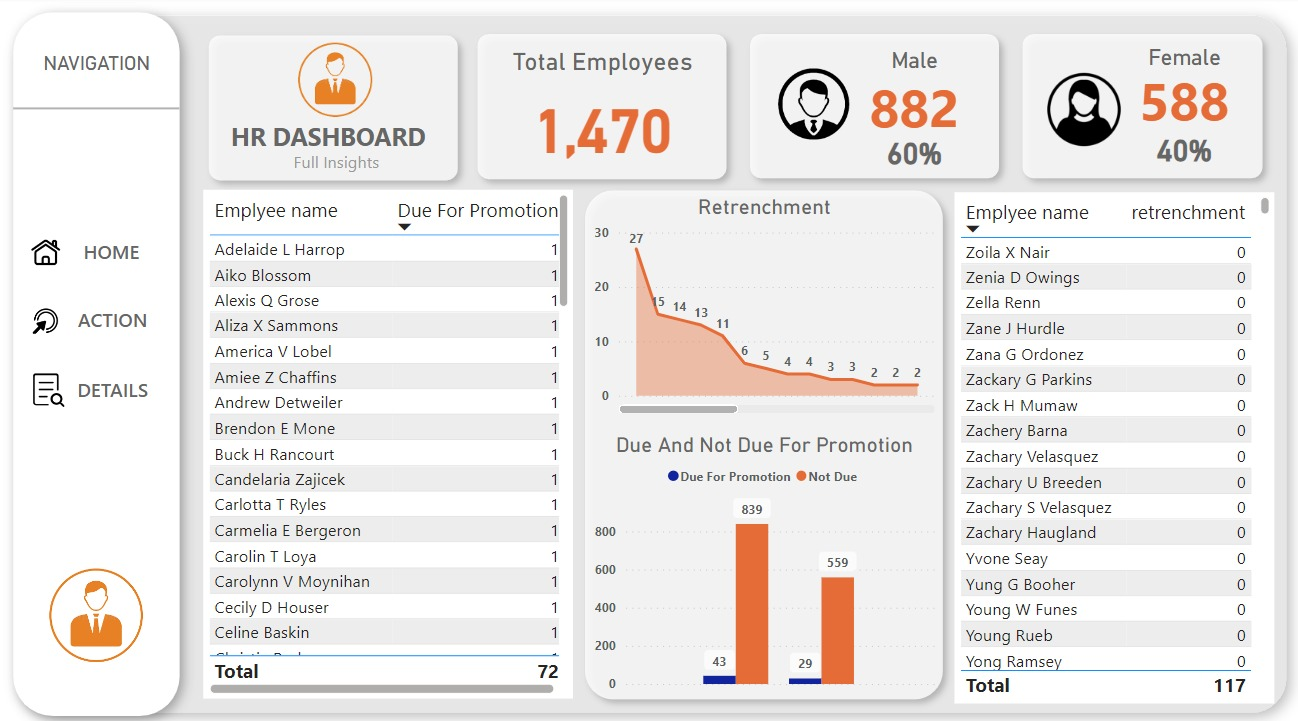

The page's visual inventory and layout, read from the dashboard file:
{"tool":"powerbi","page":{"name":"Action","canvas":[1280,720],"ordinal":1},"visuals":[{"type":"shape","box":[0,0,1279.9,720],"z":0},{"type":"shape","box":[0,0,194.4,720],"z":1000},{"type":"shape","box":[195.6,26.9,266.5,165],"z":2000},{"type":"shape","box":[458.4,25.7,266.5,165],"z":3000},{"type":"shape","box":[724.9,25.7,266.5,163.8],"z":4000},{"type":"textbox","box":[223.7,116.1,213.9,46.5],"z":5000},{"type":"textbox","box":[261.6,145.5,140.6,34.2],"z":6000},{"type":"image","box":[260.4,33,140.6,97.8],"z":7000},{"type":"shape","box":[991.4,25.7,257.9,163.8],"z":8000},{"type":"card","title":"Total Employees","fields":{"Values":["All Measures.Total emp"]},"box":[476.7,50.1,231,121],"z":9000},{"type":"card","title":"Male","fields":{"Values":["All Measures.Male"]},"box":[839.8,50.1,114.9,89.2],"z":10000},{"type":"card","title":"Male","fields":{"Values":["All Measures.% Male"]},"box":[845.9,130.8,102.7,42.8],"z":11000},{"type":"card","title":"Female","fields":{"Values":["All Measures.Female"]},"box":[1103.8,47.7,114.9,80.7],"z":12000},{"type":"card","title":"Male","fields":{"Values":["All Measures.% Female"]},"box":[1109.9,128.4,102.7,42.8],"z":13000},{"type":"image","box":[1004.8,55,116.1,111.2],"z":14000},{"type":"image","box":[756.7,66,83.1,79.5],"z":15000},{"type":"tableEx","fields":{"Values":["HR employee data.Emplyee name","All Measures.Due For Promotion"]},"box":[201.7,189.5,361.8,497.5],"z":16000},{"type":"tableEx","fields":{"Values":["HR employee data.Emplyee name","All Measures.retrenchment"]},"box":[936.4,191.9,312.9,500],"z":17000},{"type":"shape","box":[563.5,178.5,372.8,520.7],"z":18000},{"type":"areaChart","title":"Retrenchment ","fields":{"Category":["HR Analytics Data.Service Years"],"Y":["All Measures.retrenchment"]},"box":[579.4,194.4,342.3,218.8],"z":19000},{"type":"lineClusteredColumnComboChart","title":"Due And Not Due For Promotion ","fields":{"Category":["HR Analytics Data.Gender"],"Y":["All Measures.Due For Promotion","All Measures.Not Due"]},"box":[579.4,426.6,342.3,260.4],"z":20000},{"type":"actionButton","box":[62.3,292.2,101.5,46.5],"z":23000},{"type":"actionButton","box":[61.1,223.7,101.5,52.6],"z":24000},{"type":"actionButton","box":[62.3,360.6,101.5,46.5],"z":25000},{"type":"image","box":[29.3,545.2,135.7,121],"z":25001},{"type":"textbox","box":[40.3,50.1,124.7,35.4],"z":25002},{"type":"shape","box":[15.9,103.9,162.6,12.2],"z":25003},{"type":"image","box":[29.3,300.7,35.4,34.2],"z":25004},{"type":"image","box":[24.4,229.8,46.5,41.6],"z":25005},{"type":"image","box":[30.6,364.3,40.3,42.8],"z":25006}]}

Visuals, with their boxes on the page's 1280x720 design canvas (x1, y1, x2, y2). These are canvas units, not pixel positions in the 1298x721 screenshot, which may show the page scaled, cropped or inside an application window:
shape: <box>0,0,1280,720</box>
shape: <box>0,0,194,720</box>
shape: <box>196,27,462,192</box>
shape: <box>458,26,725,191</box>
shape: <box>725,26,991,190</box>
textbox: <box>224,116,438,163</box>
textbox: <box>262,146,402,180</box>
image: <box>260,33,401,131</box>
shape: <box>991,26,1249,190</box>
"Total Employees" card: <box>477,50,708,171</box>
"Male" card: <box>840,50,955,139</box>
"Male" card: <box>846,131,949,174</box>
"Female" card: <box>1104,48,1219,128</box>
"Male" card: <box>1110,128,1213,171</box>
image: <box>1005,55,1121,166</box>
image: <box>757,66,840,146</box>
tableEx - HR employee data.Emplyee name x All Measures.Due For Promotion: <box>202,190,564,687</box>
tableEx - HR employee data.Emplyee name x All Measures.retrenchment: <box>936,192,1249,692</box>
shape: <box>564,178,936,699</box>
"Retrenchment " areaChart: <box>579,194,922,413</box>
"Due And Not Due For Promotion " lineClusteredColumnComboChart: <box>579,427,922,687</box>
actionButton: <box>62,292,164,339</box>
actionButton: <box>61,224,163,276</box>
actionButton: <box>62,361,164,407</box>
image: <box>29,545,165,666</box>
textbox: <box>40,50,165,86</box>
shape: <box>16,104,178,116</box>
image: <box>29,301,65,335</box>
image: <box>24,230,71,271</box>
image: <box>31,364,71,407</box>
